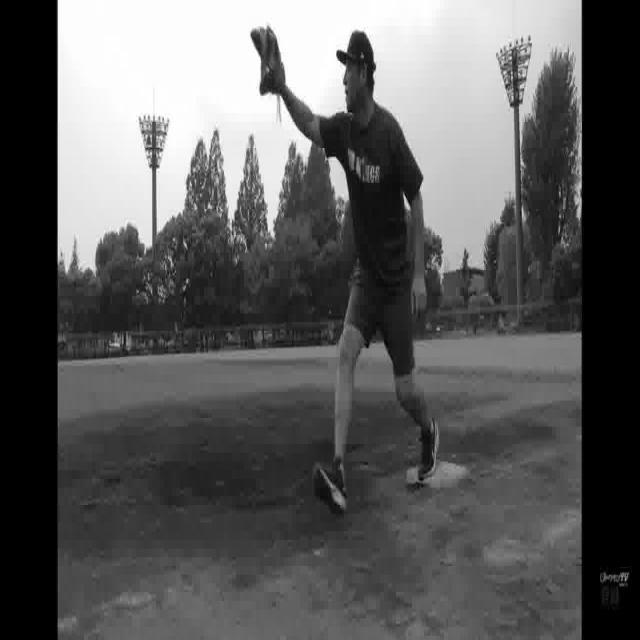base: (404, 453, 468, 491)
baseball_glove: (248, 24, 288, 94)
shoe: (314, 463, 348, 513), (418, 412, 442, 482)
